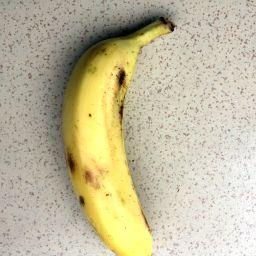Banana Ripe: (45, 23, 185, 256)
